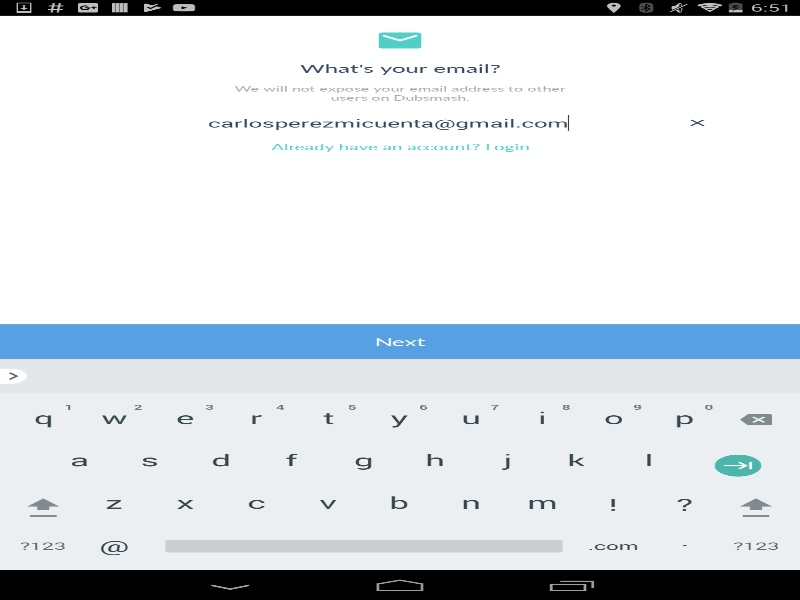Input: (74, 107, 725, 138)
